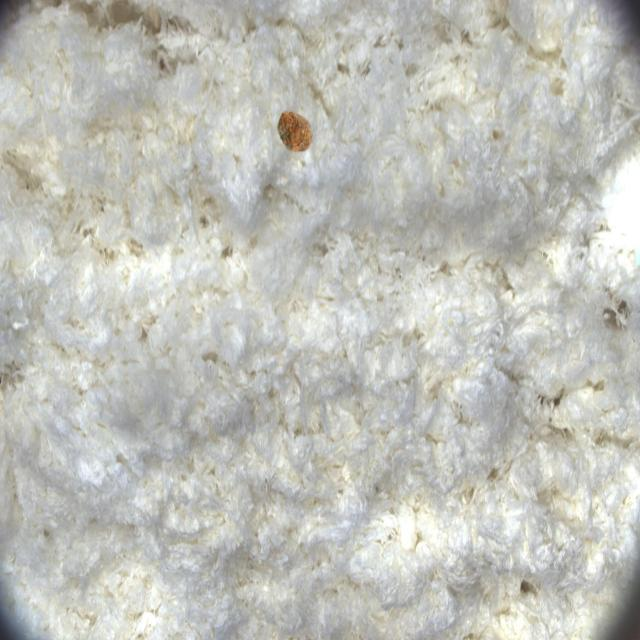dust: (263, 92, 333, 173)
